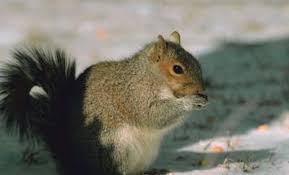Ardilla: (75, 28, 211, 144)
